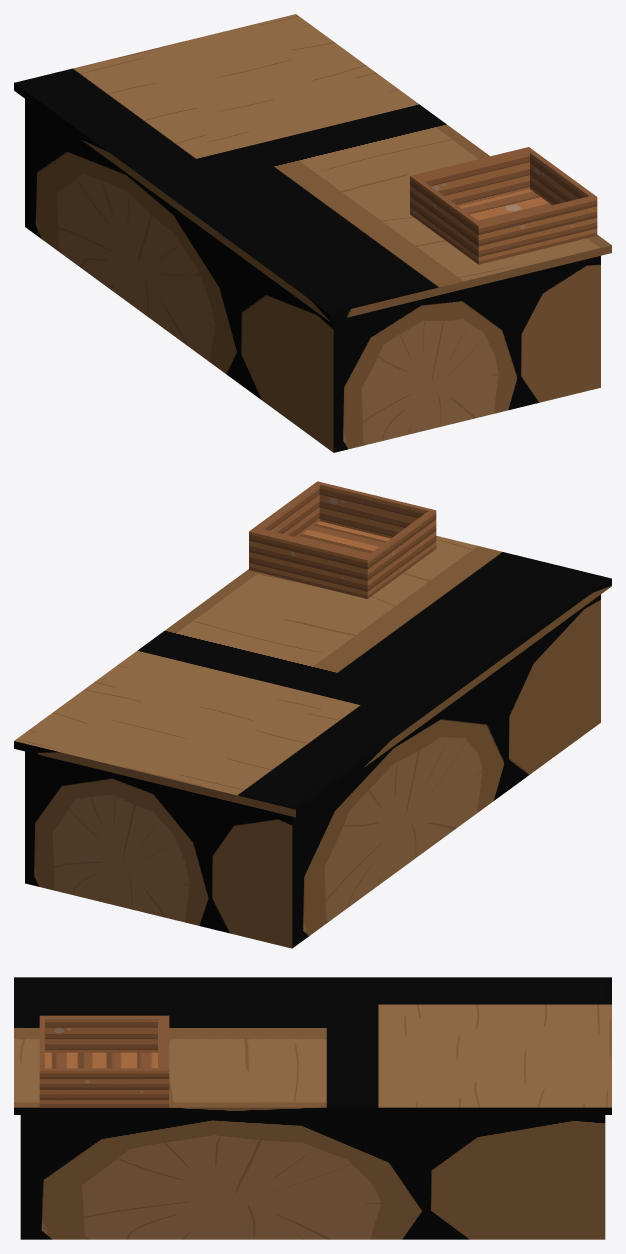
The model's file is MarketTableBoxYas.fbx.
The picture shows the model from 3 angles, top to bottom: view 1: azimuth 30°, elevation 25°; view 2: azimuth 150°, elevation 25°; view 3: azimuth 270°, elevation 25°; orthographic projection. The views are drawn at different scales.
Visible parts, largest first — view 1: pCube5, pCube12; view 2: pCube5, pCube12; view 3: pCube5, pCube12.
Boxes of the visible parts, left/top/right/bottom form: pCube5: left=14, top=14, right=611, bottom=452; pCube12: left=410, top=147, right=597, bottom=264; pCube5: left=14, top=535, right=611, bottom=948; pCube12: left=249, top=481, right=436, bottom=598; pCube5: left=14, top=977, right=611, bottom=1239; pCube12: left=39, top=1015, right=169, bottom=1106.
Size of the model in its own units: 7.69 by 4.74 by 14.92.
